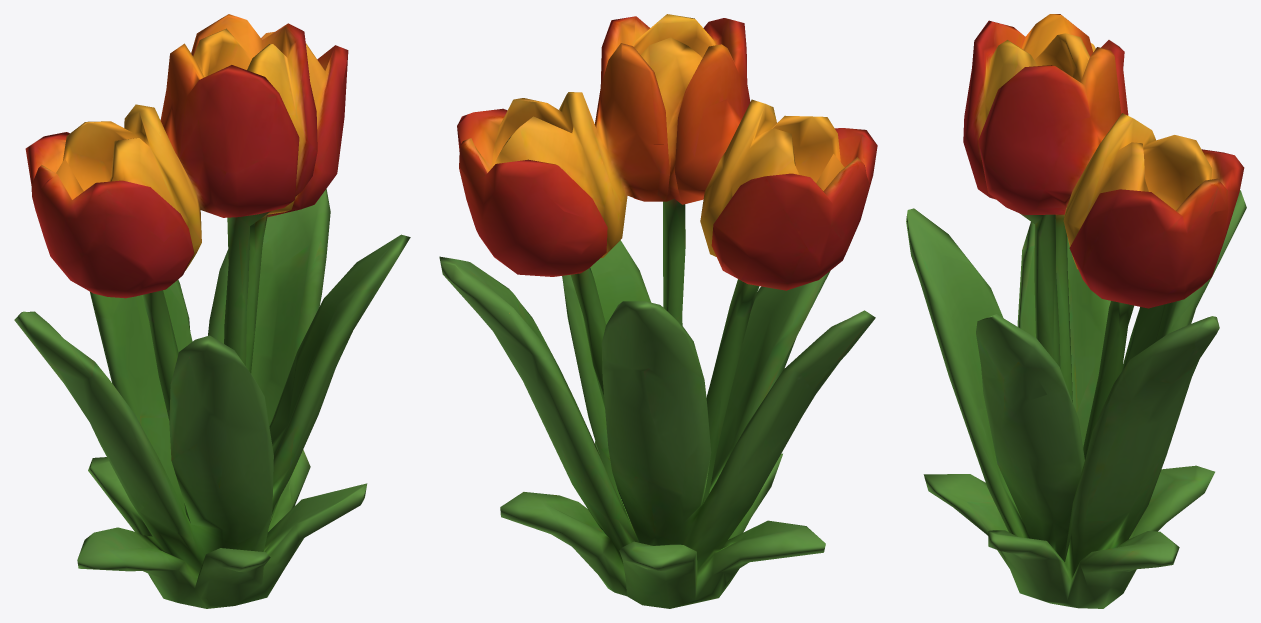
File: 44b-tulipas.glb
3 renders of one model, left to right at view 1: azimuth 30°, elevation 25°; view 2: azimuth 150°, elevation 25°; view 3: azimuth 270°, elevation 25°, orthographic. The views are drawn at different scales.
Visible parts, largest first — view 1: tripo_node_290302d3-8e98-41cc-9462-1c8eddea588e; view 2: tripo_node_290302d3-8e98-41cc-9462-1c8eddea588e; view 3: tripo_node_290302d3-8e98-41cc-9462-1c8eddea588e.
Boxes of the visible parts, left/top/right/bottom form: tripo_node_290302d3-8e98-41cc-9462-1c8eddea588e: left=14, top=14, right=410, bottom=608; tripo_node_290302d3-8e98-41cc-9462-1c8eddea588e: left=439, top=14, right=877, bottom=608; tripo_node_290302d3-8e98-41cc-9462-1c8eddea588e: left=906, top=14, right=1246, bottom=608.
Size of the model in its own units: 0.6984 by 1 by 0.5576.
Materials: 1 (1 with a texture image).
